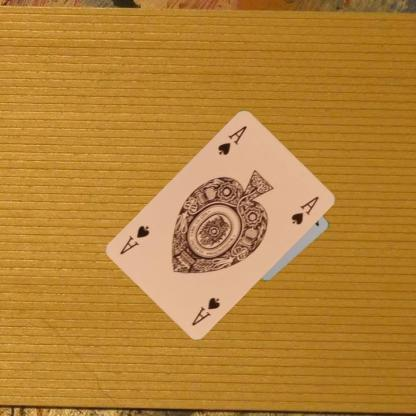As: (215, 122, 248, 156), (189, 294, 221, 327)
